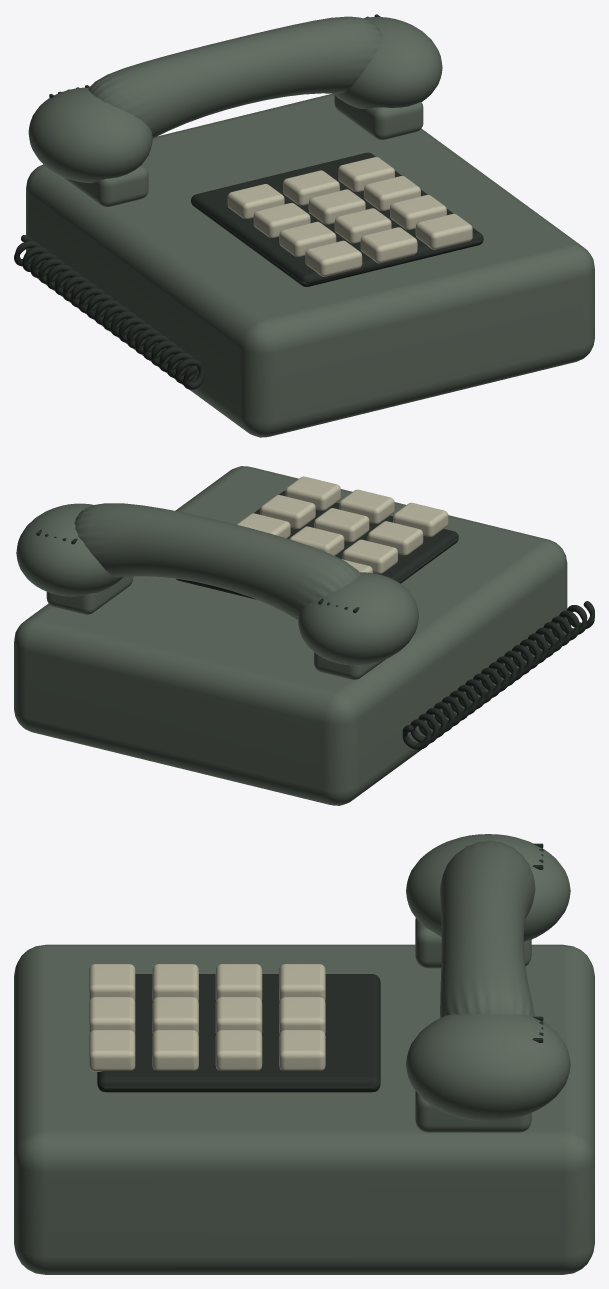
File: desk-phone.glb
3 renders of one model, top to bottom at view 1: azimuth 30°, elevation 25°; view 2: azimuth 150°, elevation 25°; view 3: azimuth 270°, elevation 25°, orthographic. The views are drawn at different scales.
Visible parts, largest first — view 1: Moulded telephone base, Individual dial key, Underside service plate; view 2: Moulded telephone base, Individual dial key, Underside service plate; view 3: Moulded telephone base, Individual dial key, Underside service plate.
Part boxes in pixels (bbox=[...]): Moulded telephone base: bbox=[26, 16, 594, 437]; Individual dial key: bbox=[227, 157, 472, 276]; Underside service plate: bbox=[14, 14, 483, 389]; Moulded telephone base: bbox=[14, 466, 567, 805]; Individual dial key: bbox=[237, 476, 448, 573]; Underside service plate: bbox=[36, 491, 594, 749]; Moulded telephone base: bbox=[14, 834, 594, 1274]; Individual dial key: bbox=[89, 964, 325, 1071]; Underside service plate: bbox=[97, 843, 543, 1092].
Bounding box in the file's own units: 0.2793 × 0.1444 × 0.275.
